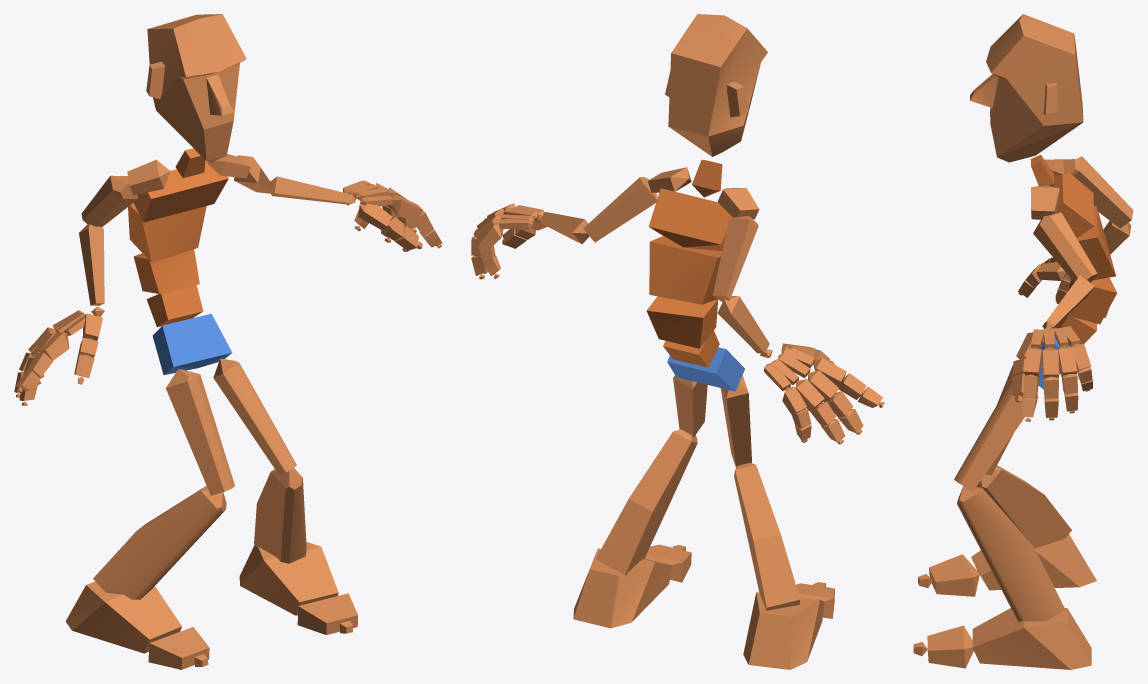
Rendered from prueba99.obj.
3 views of the same model, side by side, from view 1: azimuth 30°, elevation 25°; view 2: azimuth 150°, elevation 25°; view 3: azimuth 270°, elevation 25° (orthographic). The views are drawn at different scales.
Parts seen in each view (by area): view 1: BOPED_Head, BOPED_R_leg, BOPED_R_foot, BOPED_R_foot01, BOPED_R_legup, BOPED_L_leg, Bone01, BOPED_L_legup, Bone04, Bone05, Bone03, BOPED_R_foot_toe01 (+9 smaller); view 2: BOPED_Head, BOPED_L_leg, BOPED_R_leg, BOPED_R_foot01, BOPED_R_foot, Bone04, Bone05, Bone03, BOPED_R_arm_upper, BOPED_L_arm_upper, BOPED_R_legup, Bone01 (+9 smaller); view 3: BOPED_Head, BOPED_L_leg, BOPED_R_foot01, BOPED_R_leg, BOPED_L_legup, BOPED_R_foot, BOPED_L_arm_upper, Bone05, BOPED_R_arm_upper, BOPED_R_foot_toe01, BOPED_R_foot_toe04, Bone04 (+13 smaller).
Part boxes in pixels (<box>): BOPED_Head: <box>146,14,246,162</box>; BOPED_R_leg: <box>93,486,226,599</box>; BOPED_R_foot: <box>65,581,181,653</box>; BOPED_R_foot01: <box>239,542,338,615</box>; BOPED_R_legup: <box>165,369,234,495</box>; BOPED_L_leg: <box>254,468,306,563</box>; Bone01: <box>152,313,232,374</box>; BOPED_L_legup: <box>213,358,296,475</box>; Bone04: <box>128,203,206,262</box>; Bone05: <box>133,161,228,222</box>; Bone03: <box>133,249,199,293</box>; BOPED_R_foot_toe01: <box>148,627,209,669</box>; BOPED_Head: <box>665,14,767,156</box>; BOPED_L_leg: <box>596,429,697,575</box>; BOPED_R_leg: <box>734,462,800,610</box>; BOPED_R_foot01: <box>573,548,672,628</box>; BOPED_R_foot: <box>743,592,824,669</box>; Bone04: <box>649,236,722,304</box>; Bone05: <box>648,188,732,251</box>; Bone03: <box>646,296,718,348</box>; BOPED_R_arm_upper: <box>713,216,758,301</box>; BOPED_L_arm_upper: <box>583,177,657,242</box>; BOPED_R_legup: <box>720,375,751,467</box>; Bone01: <box>667,347,744,391</box>; BOPED_Head: <box>970,14,1083,162</box>; BOPED_L_leg: <box>957,486,1065,621</box>; BOPED_R_foot01: <box>972,608,1091,669</box>; BOPED_R_leg: <box>976,465,1071,548</box>; BOPED_L_legup: <box>954,379,1038,491</box>; BOPED_R_foot: <box>971,534,1096,590</box>; BOPED_L_arm_upper: <box>1033,212,1097,282</box>; Bone05: <box>1053,173,1094,237</box>; BOPED_R_arm_upper: <box>1070,156,1133,228</box>; BOPED_R_foot_toe01: <box>929,554,979,596</box>; BOPED_R_foot_toe04: <box>927,625,973,668</box>; Bone04: <box>1073,205,1115,282</box>.
Size of the model in its own units: 130 by 181 by 60.97.
